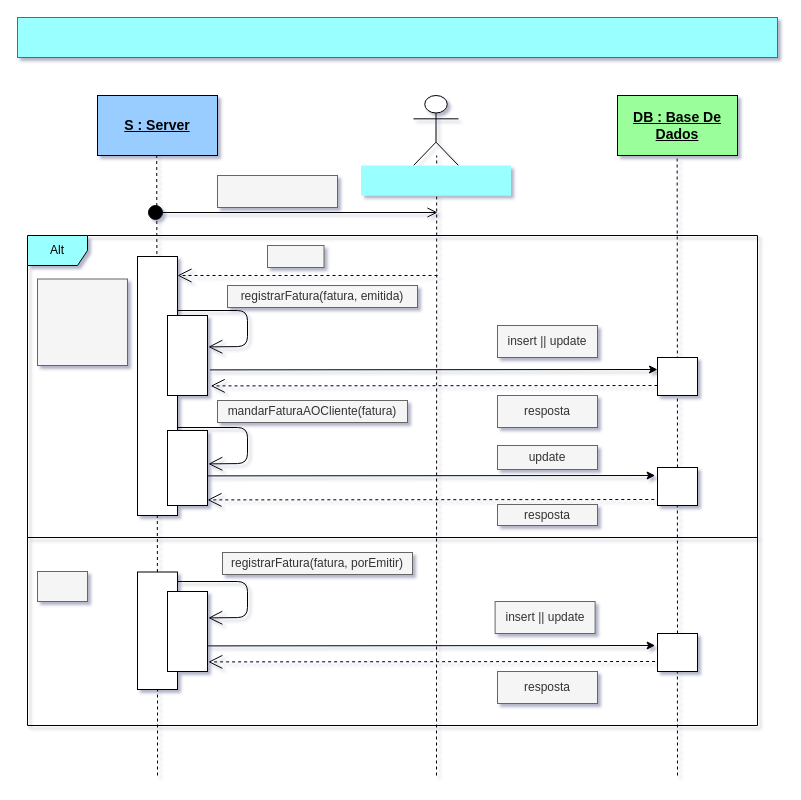
Image size: 801x800. Some labels were removed from this diagram. The box of each missing label's shape, as (x1, y1, x2, y2) in pixels:
[Tempo De Resposta Do Sistema De Faturação <=60s]: (36, 278, 128, 366)
else: (36, 570, 88, 602)
fatura: (266, 244, 324, 268)
faturar(consulta): (216, 174, 338, 208)
PROCESSO DE FATURAÇÃO: (16, 16, 778, 58)
Sistema De Faturaçao: (360, 165, 510, 195)
